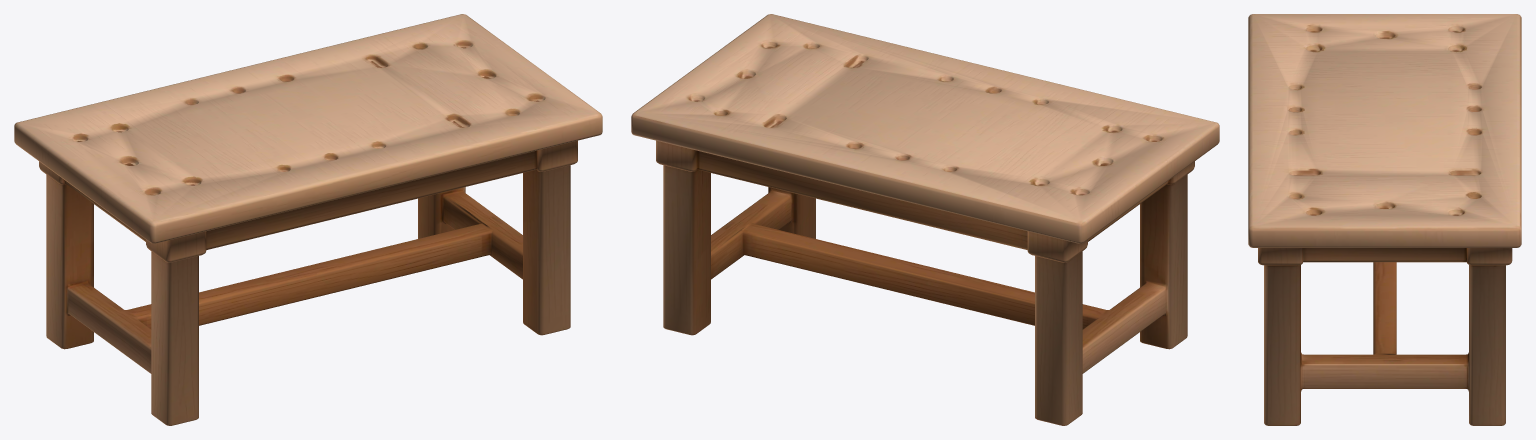
The model's file is workshop_table_15b38270_v3.glb.
3 views of the same model, side by side, from view 1: azimuth 30°, elevation 25°; view 2: azimuth 150°, elevation 25°; view 3: azimuth 270°, elevation 25° (orthographic). The views are drawn at different scales.
Parts seen in each view (by area): view 1: mesh_input; view 2: mesh_input; view 3: mesh_input.
Part boxes in pixels (bbox=[...]): mesh_input: bbox=[14, 14, 602, 425]; mesh_input: bbox=[631, 14, 1219, 425]; mesh_input: bbox=[1248, 14, 1521, 425].
Size of the model in its own units: 1.9 by 0.8594 by 1.02.
1 material, 1 textured.
